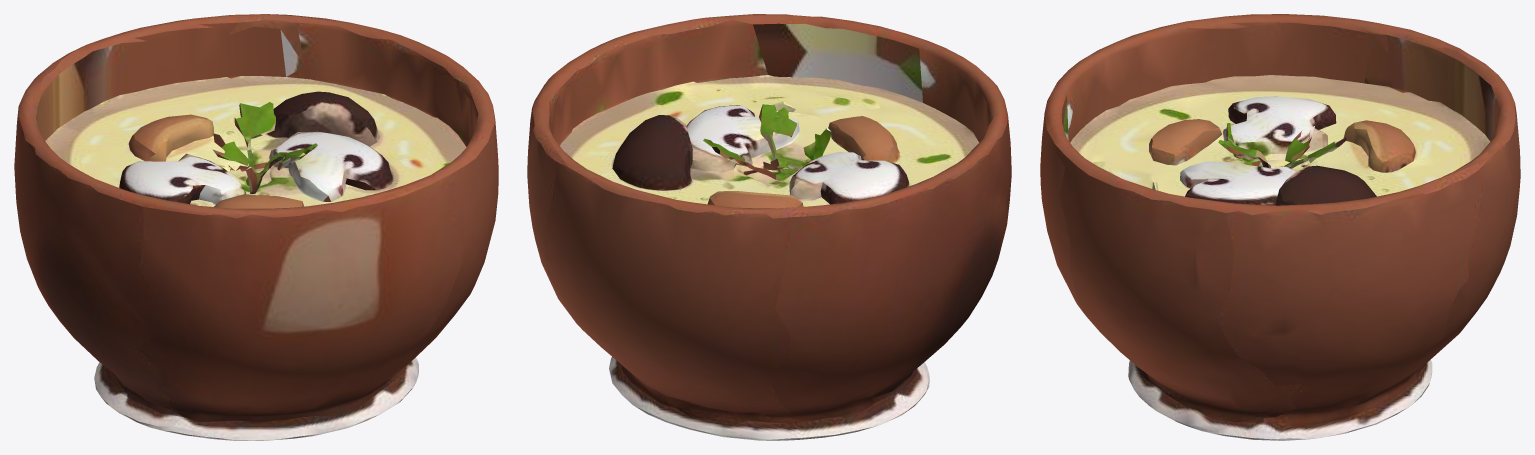
Rendered from mushroom_soup.glb.
3 renders of one model, left to right at view 1: azimuth 30°, elevation 25°; view 2: azimuth 150°, elevation 25°; view 3: azimuth 270°, elevation 25°, orthographic.
Visible parts, largest first — view 1: item_mushroom_soup; view 2: item_mushroom_soup; view 3: item_mushroom_soup.
Boxes of the visible parts, box(x1,y1,x2,y2) form: item_mushroom_soup: box(14, 14, 498, 440); item_mushroom_soup: box(527, 14, 1011, 440); item_mushroom_soup: box(1040, 14, 1520, 440).
Bounding box in the file's own units: 0.9979 × 0.6152 × 1.
Materials: 1 (1 with a texture image).
